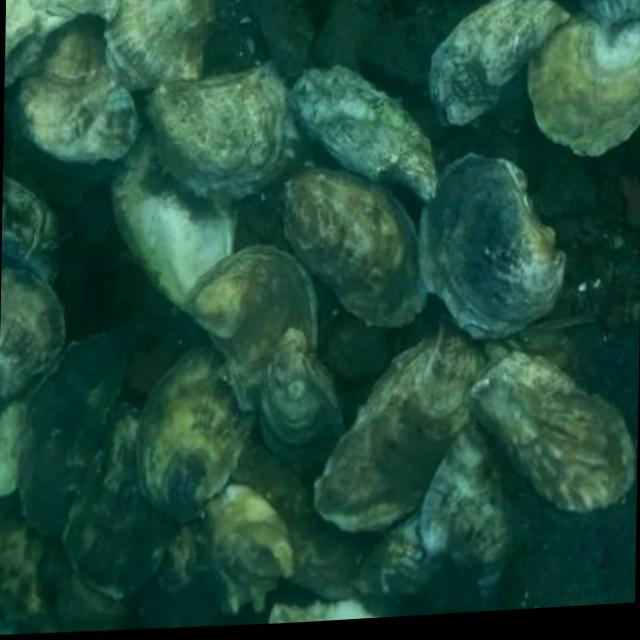Oyster-Indeterminate: (312, 316, 486, 531), (468, 342, 635, 513), (420, 154, 565, 336), (110, 126, 237, 318), (283, 167, 426, 324), (17, 335, 128, 537), (63, 401, 175, 599), (147, 59, 300, 201), (185, 246, 316, 411), (135, 345, 259, 519), (288, 66, 439, 202), (227, 464, 371, 600), (16, 18, 140, 163), (430, 0, 570, 125), (423, 426, 517, 598), (528, 10, 640, 154), (186, 483, 293, 614), (260, 326, 345, 460), (104, 0, 216, 90), (4, 0, 120, 82), (0, 268, 66, 406), (0, 363, 56, 496), (356, 510, 439, 597), (1, 173, 61, 281), (156, 520, 197, 591), (266, 600, 381, 623), (580, 0, 640, 24)
